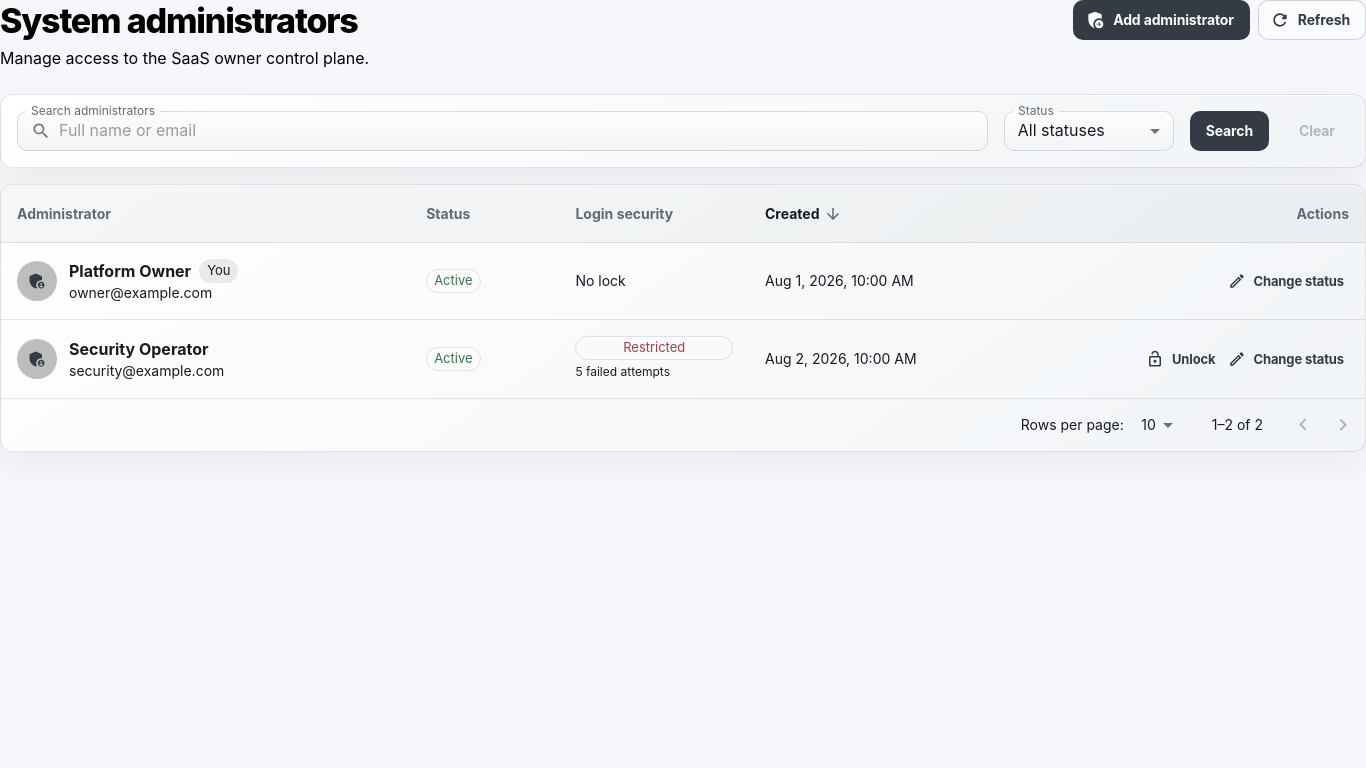
Test case: SystemAdminsPage › renders administrators, current-account safety, and login restrictions
This screenshot has width=1366, height=768.
Expected: the text "Platform Owner" is shown, [69, 259, 191, 283]
Expected: the text "Security Operator" is shown, [69, 337, 208, 361]
Click the button "Change status" in the row of "Platform Owner" at (1287, 281), box [1224, 261, 1349, 301]
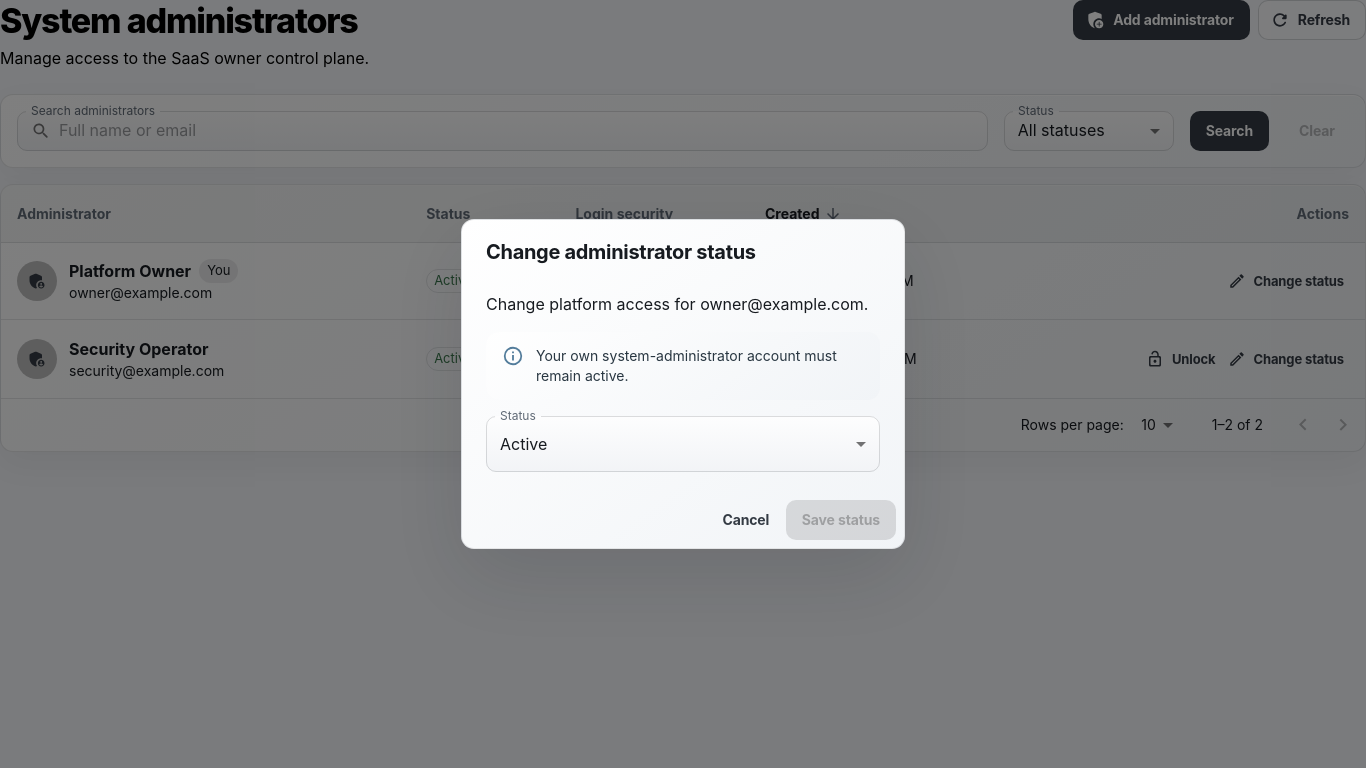
Expected: the text "Your own system-administrator account must remain active." is shown, [536, 338, 864, 394]
